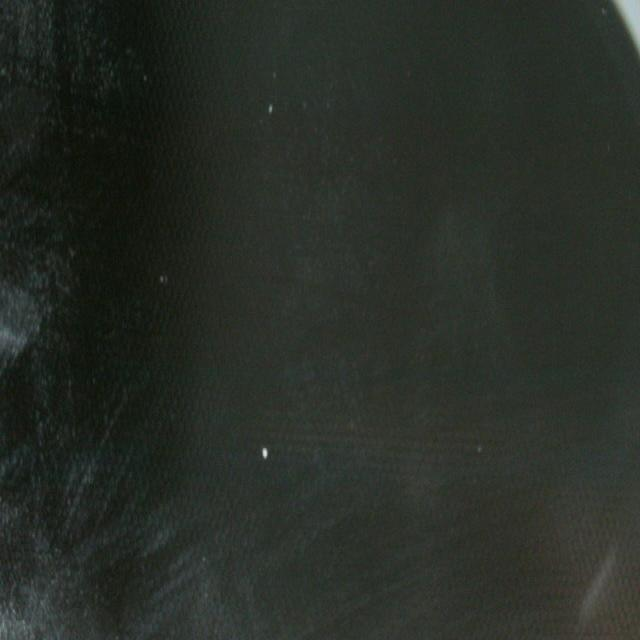very small scratch: (259, 440, 271, 465)
